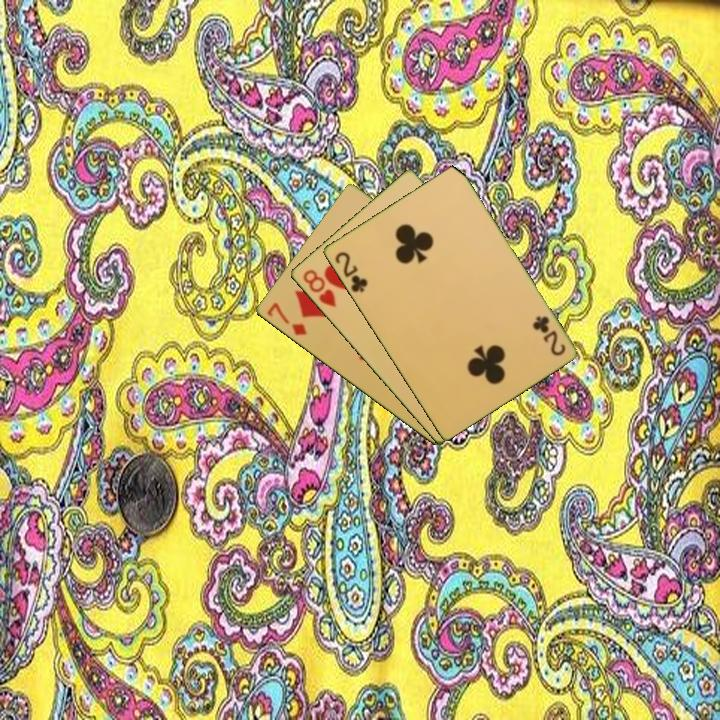2c: (331, 248, 370, 295), (529, 312, 568, 359)
7d: (263, 299, 309, 339)
8h: (299, 266, 339, 310)
